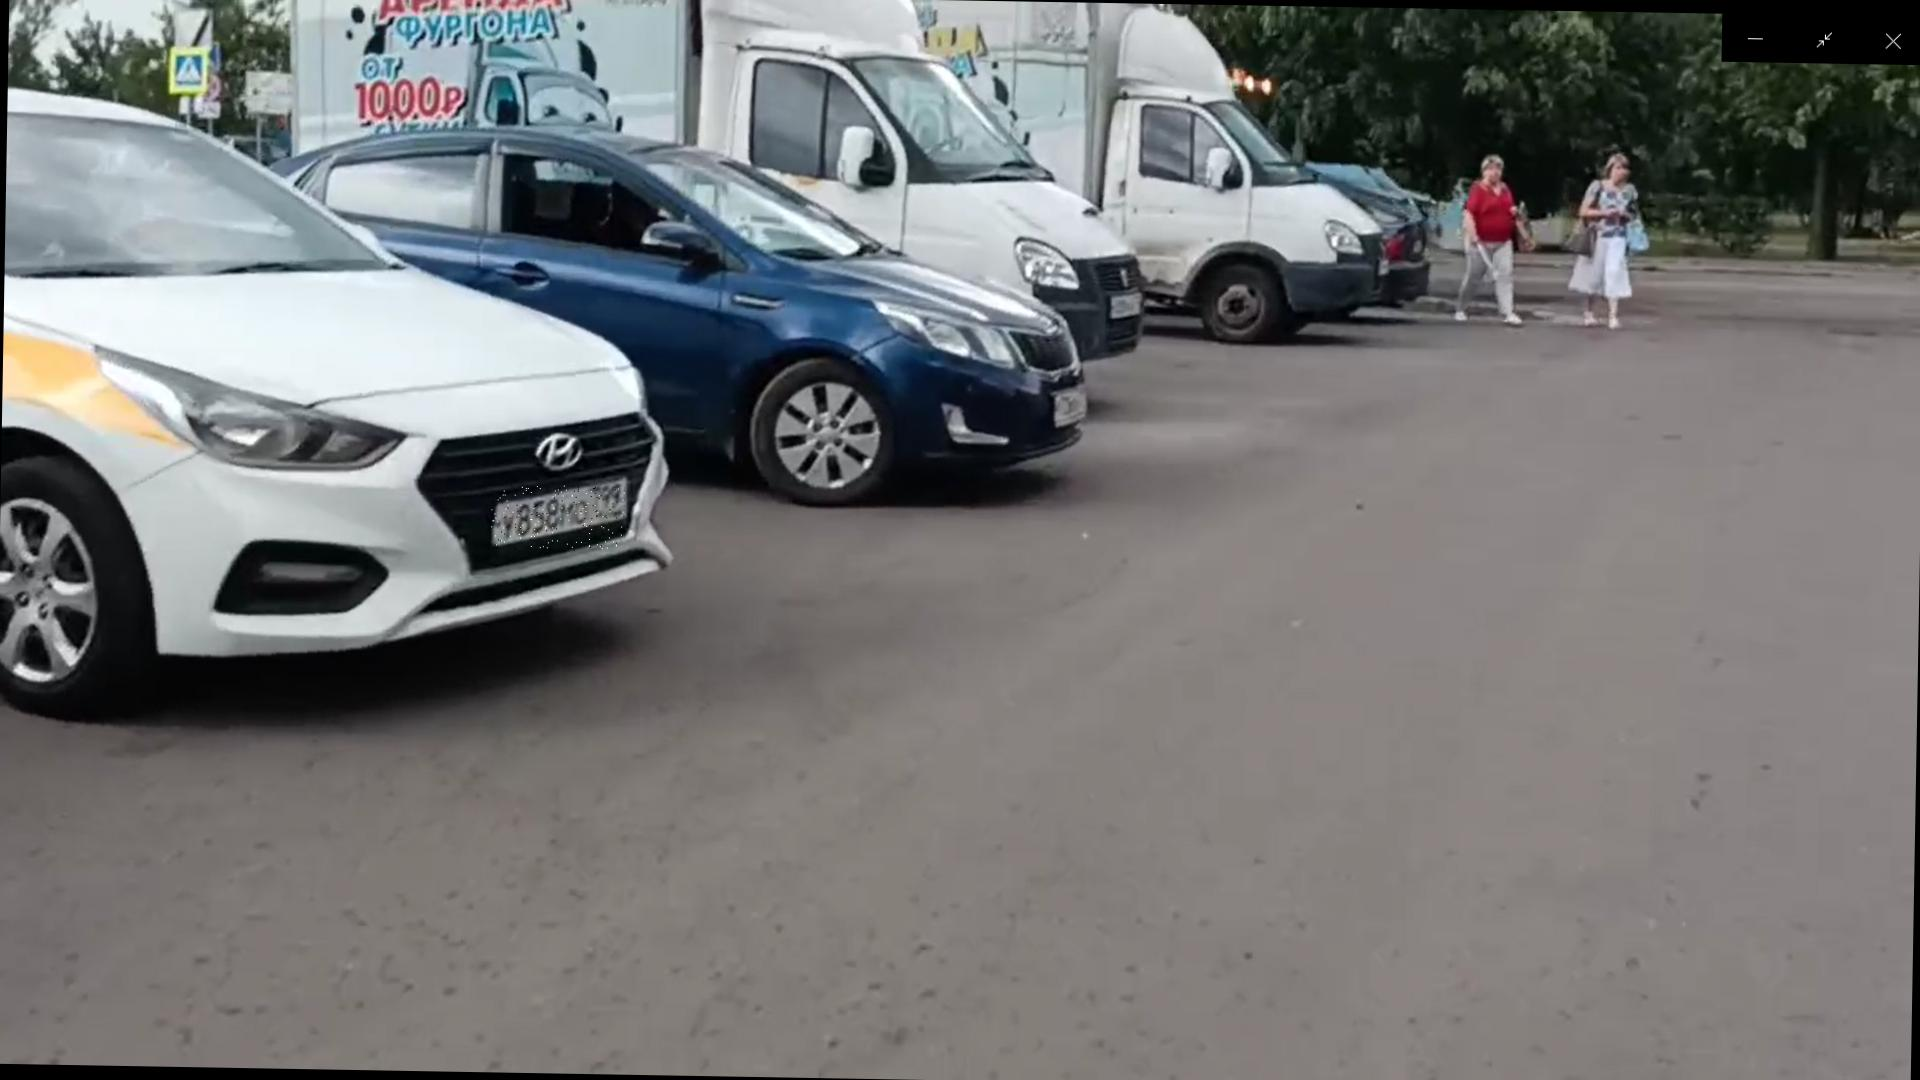plate: (493, 485, 627, 552)
